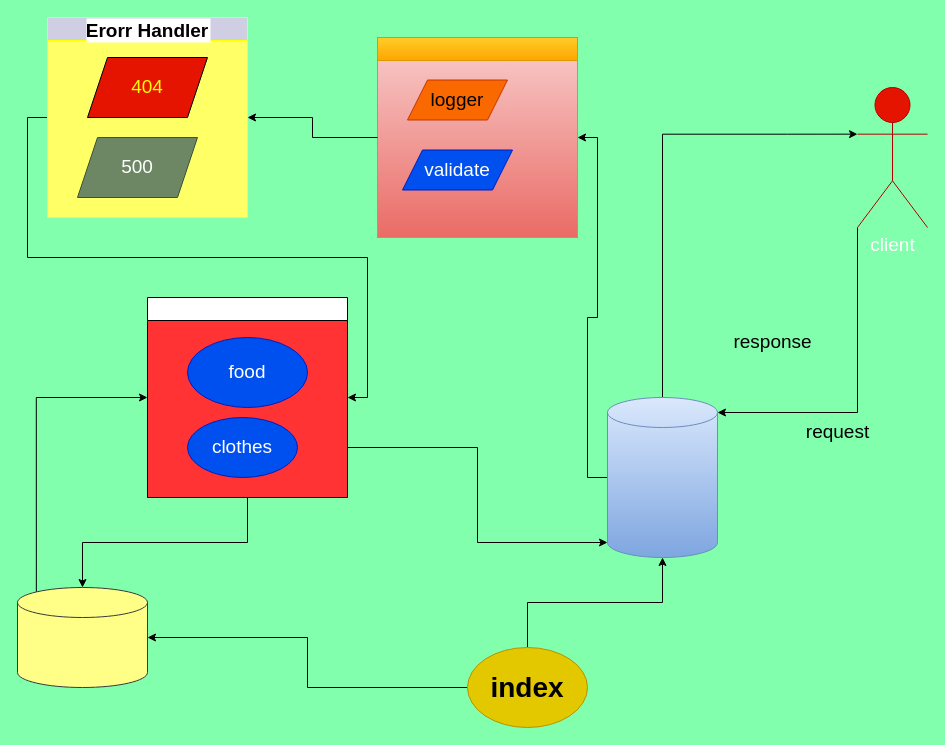
Image size: 945x745. Some labels were removed from this diagram. Here are the shapes that lost their labels. From the top down, the box of each, then its label:
(376, 36, 578, 238): Middleware
(146, 296, 348, 498): Routes
(606, 396, 718, 558): server
(16, 586, 148, 688): Database
